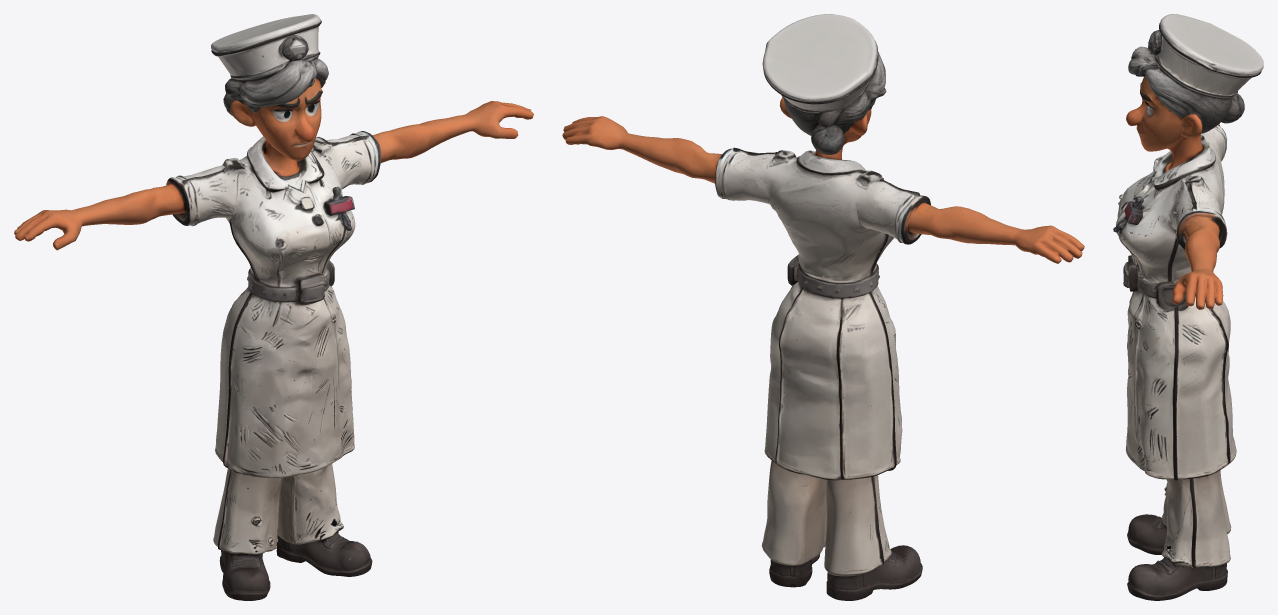
The model's file is matron_hale.glb.
3 renders of one model, left to right at view 1: azimuth 30°, elevation 25°; view 2: azimuth 150°, elevation 25°; view 3: azimuth 270°, elevation 25°, orthographic.
Visible parts, largest first — view 1: matron_hale; view 2: matron_hale; view 3: matron_hale.
Boxes of the visible parts, x1,y1,x2,y2 form: matron_hale: [14, 14, 533, 600]; matron_hale: [562, 14, 1084, 600]; matron_hale: [1113, 14, 1263, 600].
Bounding box in the file's own units: 1.71 × 1.75 × 0.4377.
Materials: 1 (1 with a texture image).
